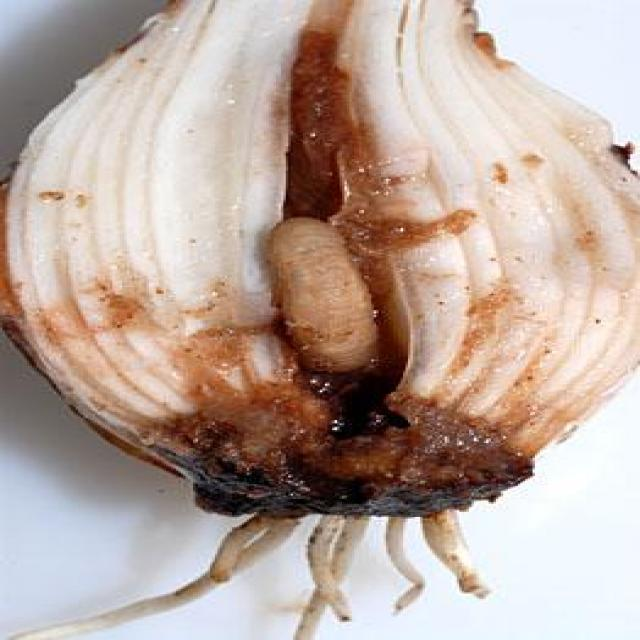Grub-Adult-: (239, 203, 420, 398)
